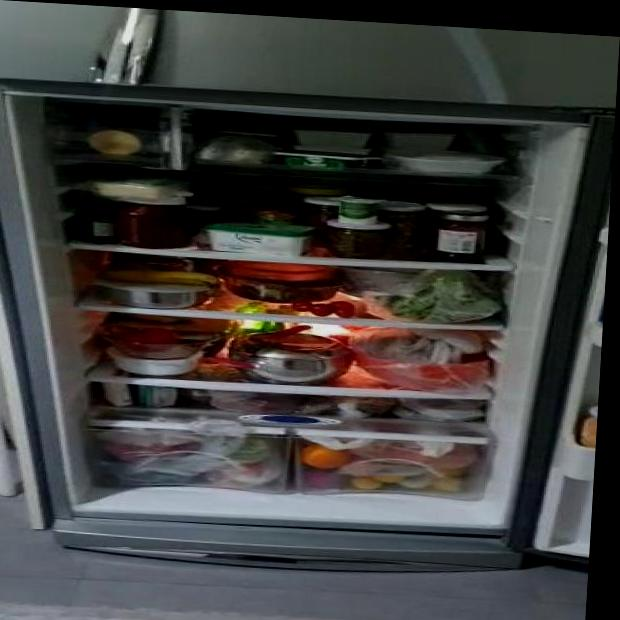banana: (109, 268, 223, 290)
cheese: (205, 219, 314, 256), (97, 176, 189, 201)
cream cheese: (274, 149, 375, 172)
lemon: (300, 444, 353, 469)
lettuce: (383, 269, 505, 326)
tomato: (293, 299, 357, 318)
tomato paste: (117, 198, 198, 250)
yoghurt: (334, 194, 386, 226)
